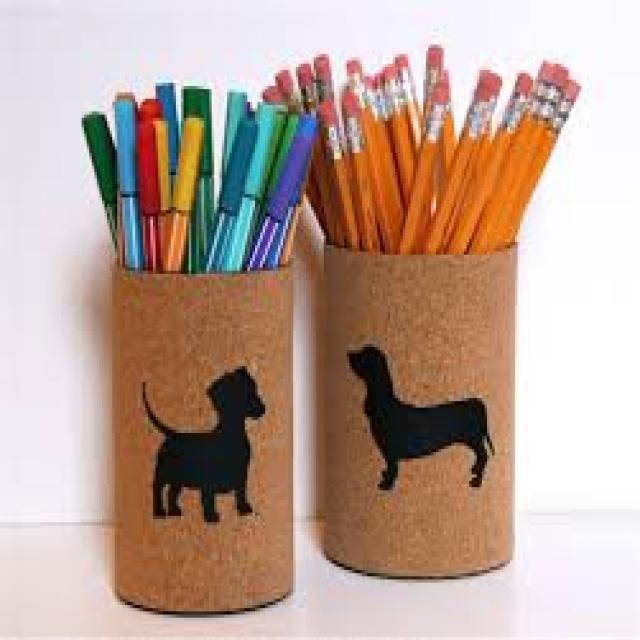organic waste: (319, 121, 344, 159), (421, 102, 444, 137), (464, 96, 487, 130), (505, 86, 523, 127), (525, 73, 541, 115), (482, 89, 495, 137), (344, 70, 365, 99), (342, 118, 364, 143), (540, 82, 556, 114), (367, 86, 383, 115), (380, 79, 400, 102), (400, 64, 413, 92), (556, 92, 566, 121), (424, 64, 434, 89)
